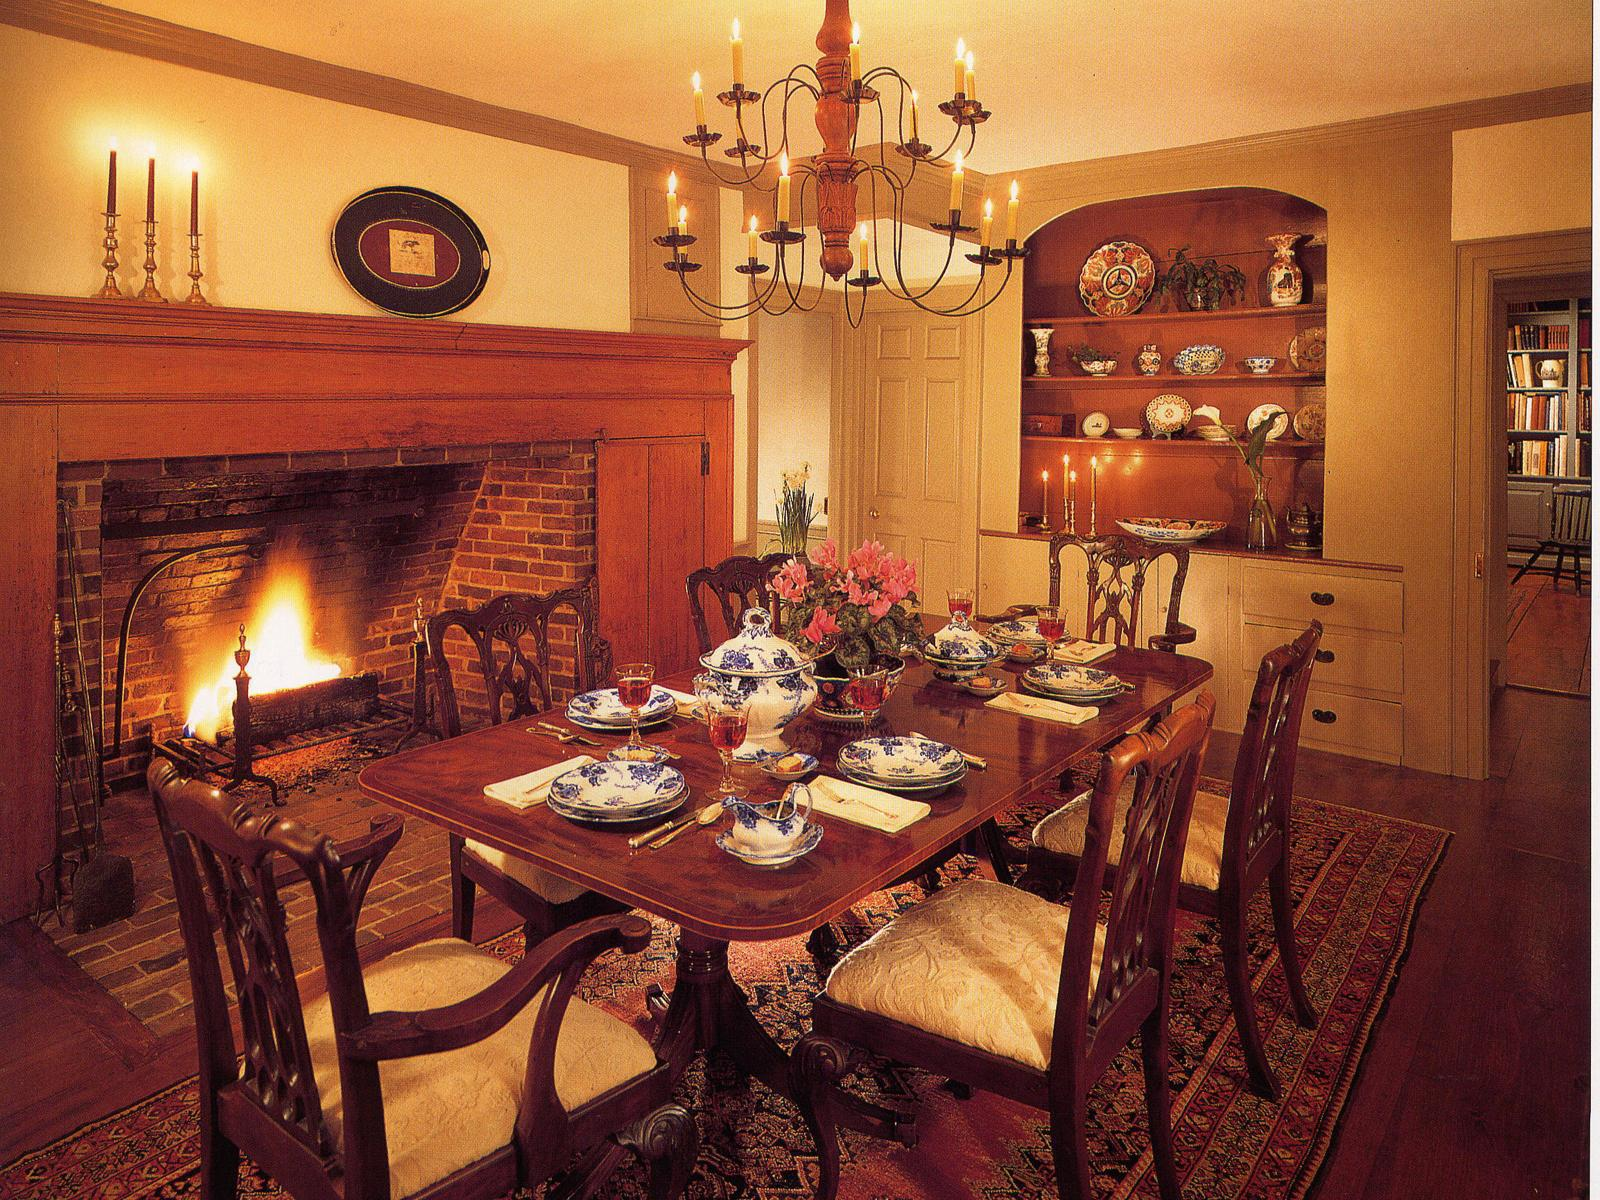Puerta: (847, 303, 974, 596)
